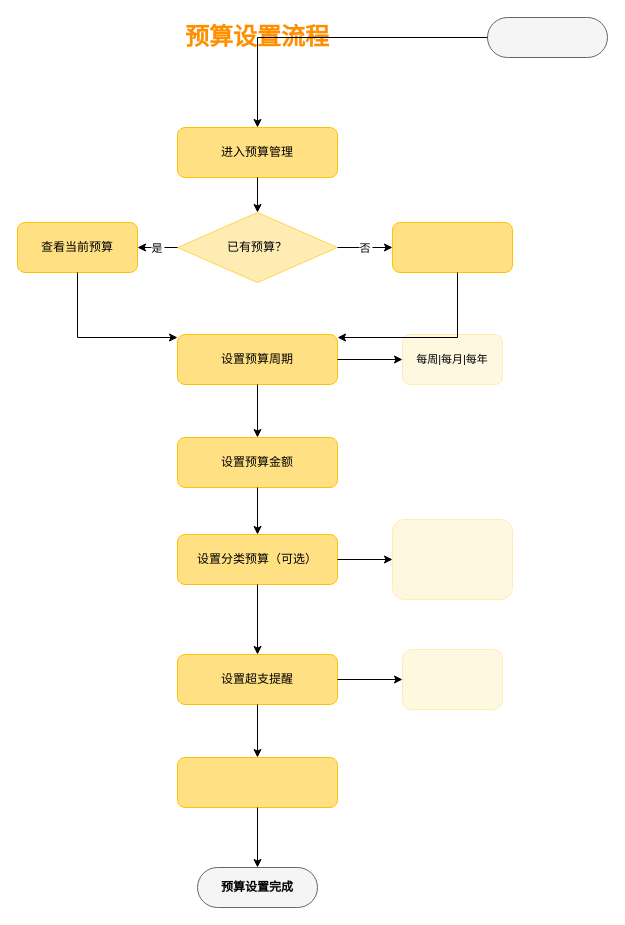
This 625x925 diagram has some shape labels left out. The shapes that lost their labels are listed below. From the top down, each one's box as (x1, y1, x2, y2) in pixels, then its label:
(486, 16, 608, 58): 进入发现页
(392, 222, 512, 272): 新建预算
(392, 518, 512, 600): 餐饮:2000 交通:500 购物:1000...
(402, 648, 502, 710): 提醒阈值 80%|90%|100%
(176, 756, 338, 808): 保存预算设置
